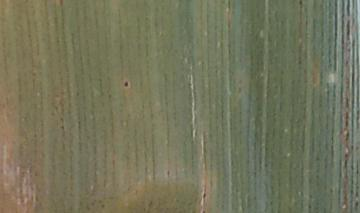tarspot: (345, 18, 351, 41), (345, 1, 352, 18), (353, 199, 359, 213), (58, 124, 66, 132), (165, 168, 171, 178), (122, 80, 130, 87), (201, 191, 208, 199), (58, 1, 65, 8), (328, 186, 334, 194), (75, 89, 81, 97), (298, 1, 304, 7), (200, 209, 206, 213)
